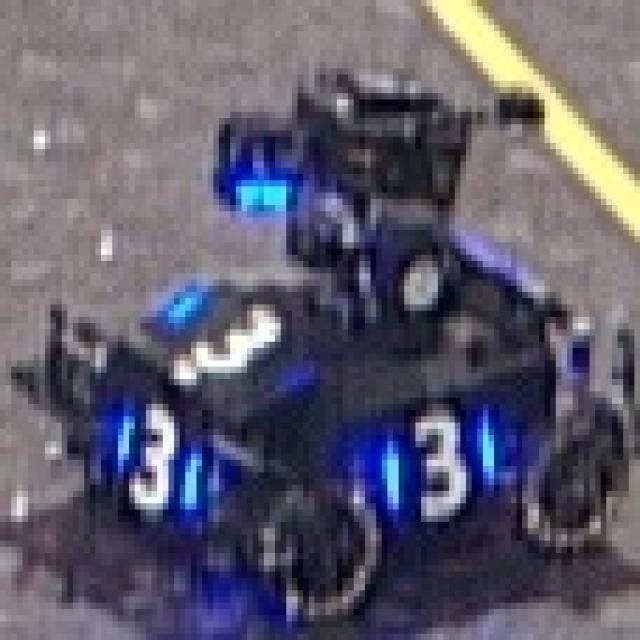B3: (376, 398, 500, 522), (107, 398, 202, 510)
